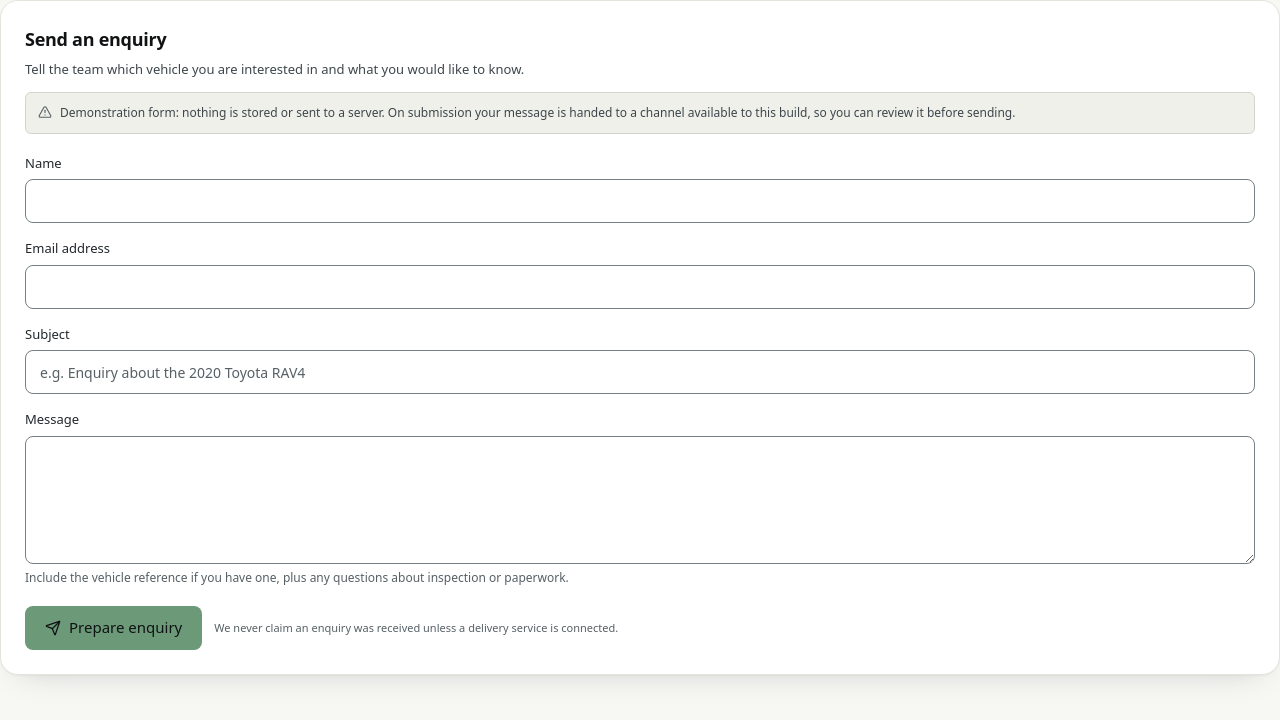
Test: EnquiryForm validation › blocks an empty submission and associates each error with its field
The width and height of the screenshot is (1280, 720).
Step 1. Click the button "Prepare enquiry" → coordinates (114, 628), box [25, 606, 202, 650]
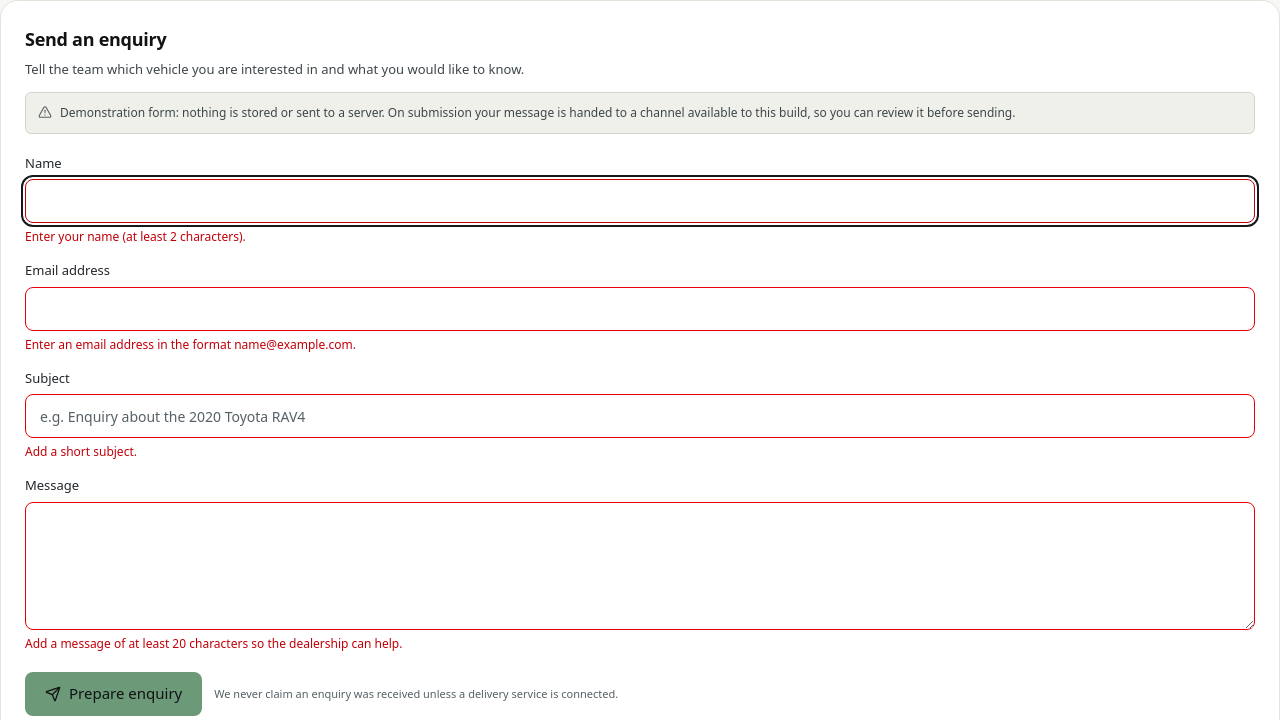
Result: the text "Enter your name (at least 2 characters)." is shown at [25, 228, 246, 245]
